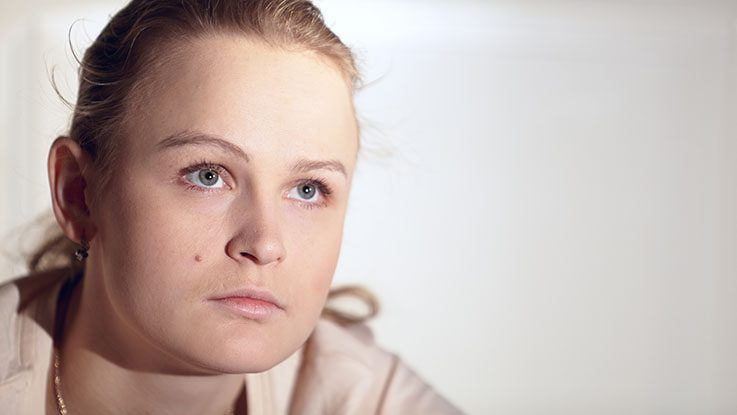mole: (190, 251, 206, 266)
